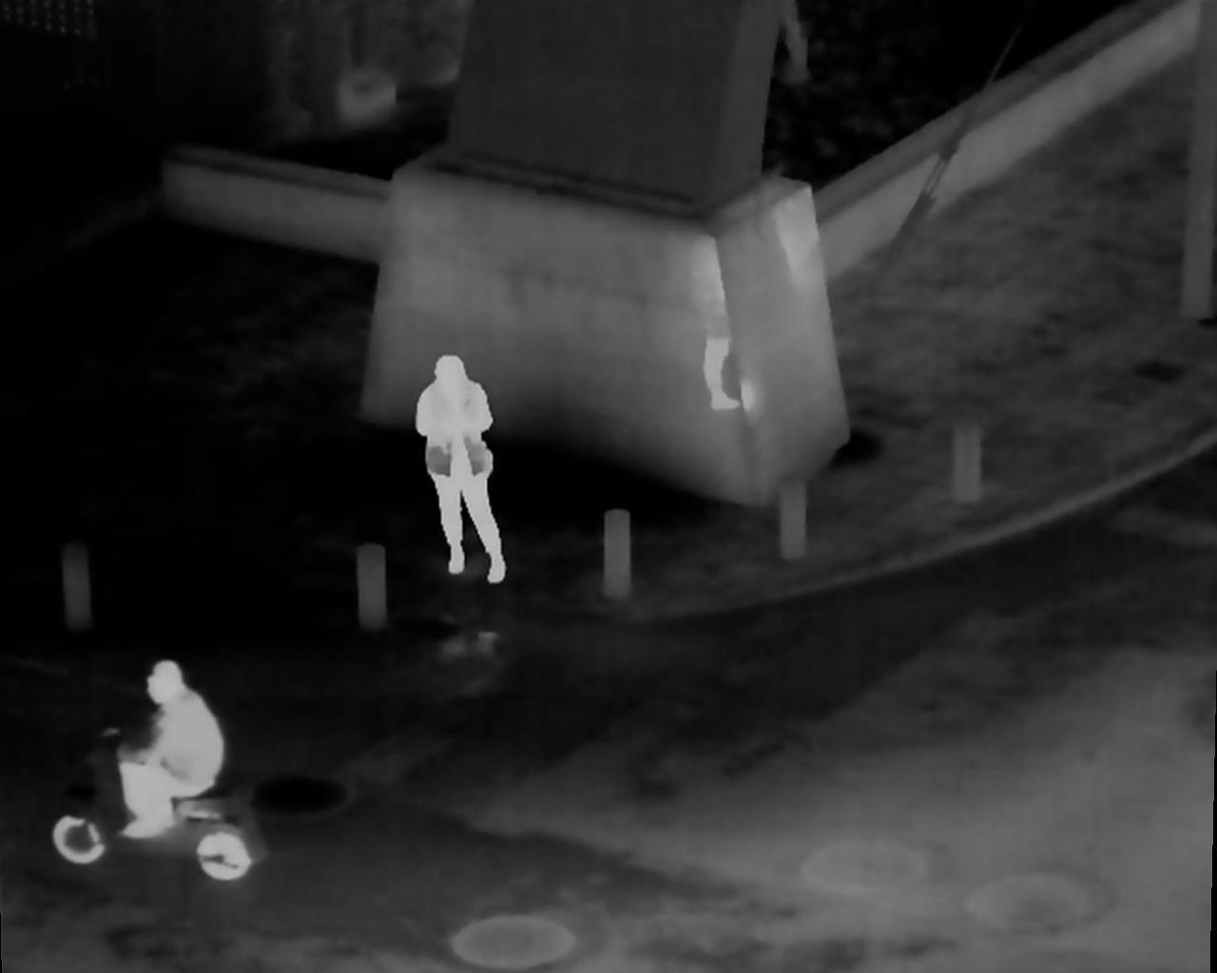person: (418, 353, 510, 589), (110, 664, 226, 847)
